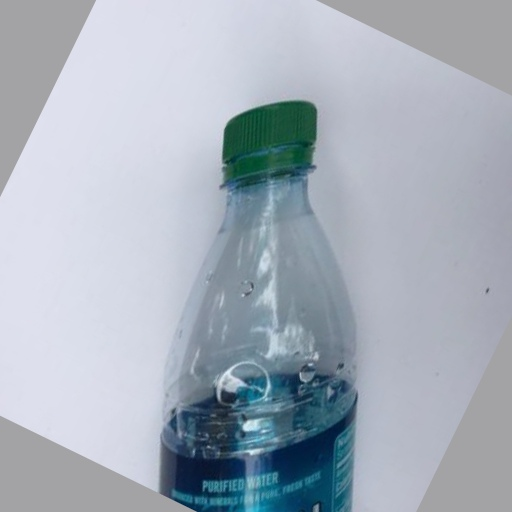Plastic_0: (166, 100, 359, 512)
